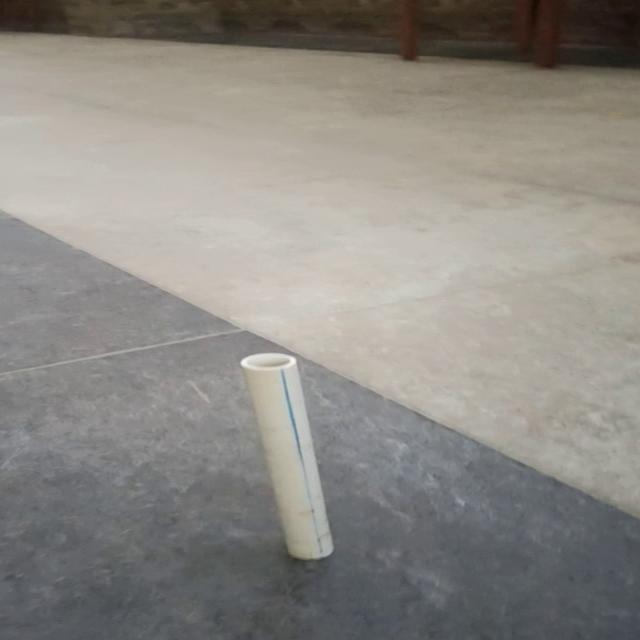Cube: (238, 352, 335, 560)
